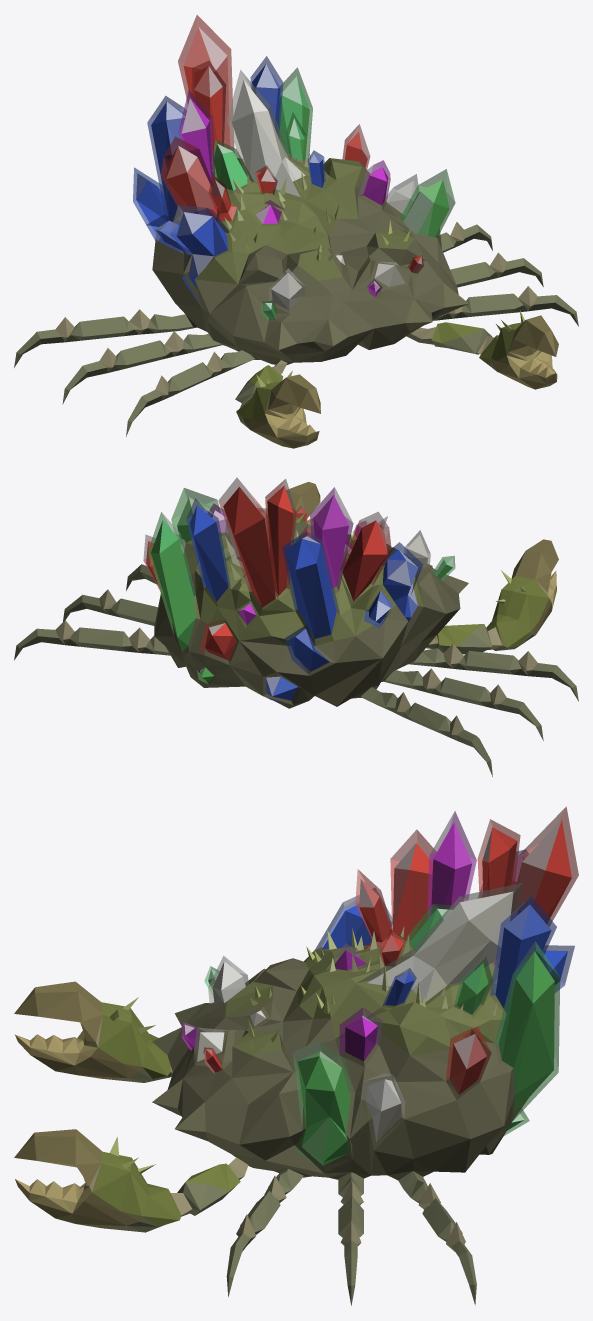
Rendered from gemstone-crab.gltf.
3 views of the same model, one above another, from view 1: azimuth 30°, elevation 25°; view 2: azimuth 150°, elevation 25°; view 3: azimuth 270°, elevation 25° (orthographic). The views are drawn at different scales.
Bounding box in the file's own units: 890 × 484 × 725.
Materials: 2 (2 with a texture image).
